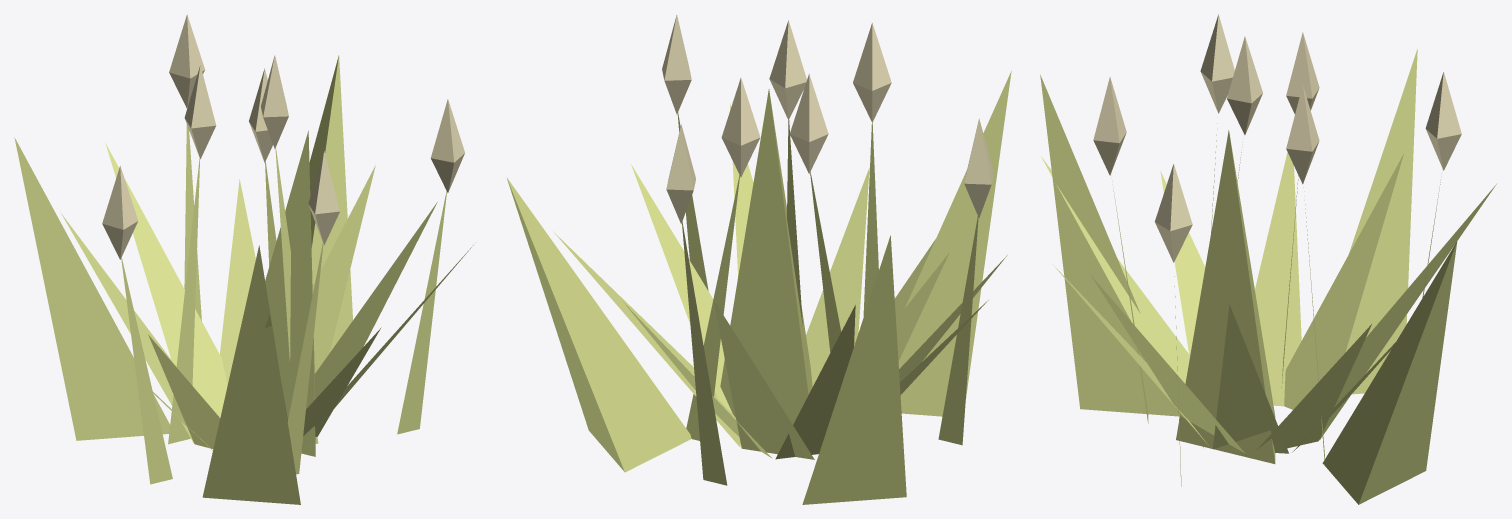
File: hay.glb
The picture shows the model from 3 angles, left to right: view 1: azimuth 30°, elevation 25°; view 2: azimuth 150°, elevation 25°; view 3: azimuth 270°, elevation 25°; orthographic projection. The views are drawn at different scales.
Parts seen in each view (by area): view 1: crop; view 2: crop; view 3: crop.
Part boxes in pixels (x1,y1,x2,y2): crop: (14,14,473,504); crop: (506,14,1011,504); crop: (1040,14,1496,504).
Size of the model in its own units: 0.8317 by 0.8 by 0.8293.
